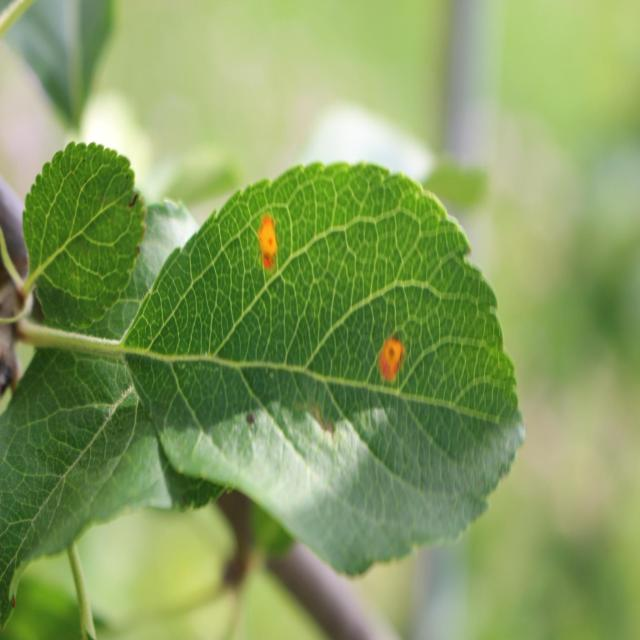Rust: (366, 298, 412, 407), (249, 197, 293, 283)
